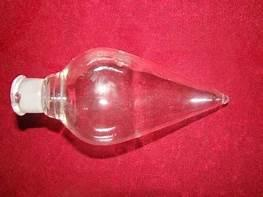Pear shaped flask: (3, 37, 231, 149)
